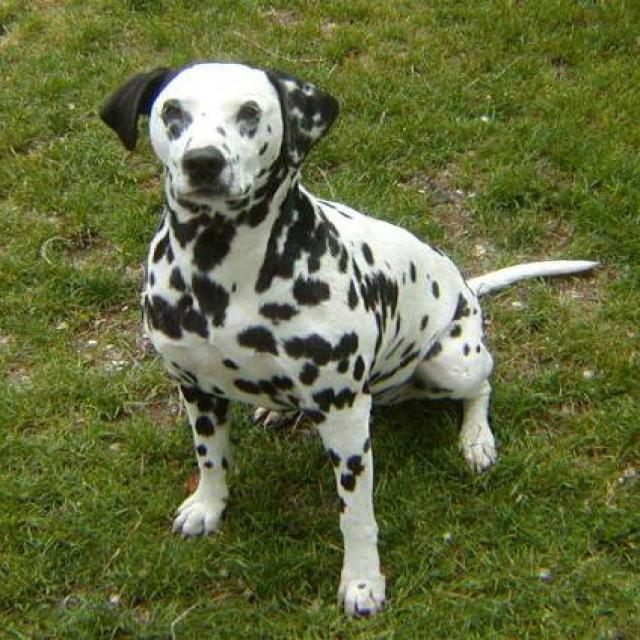dog: (63, 41, 617, 628)
